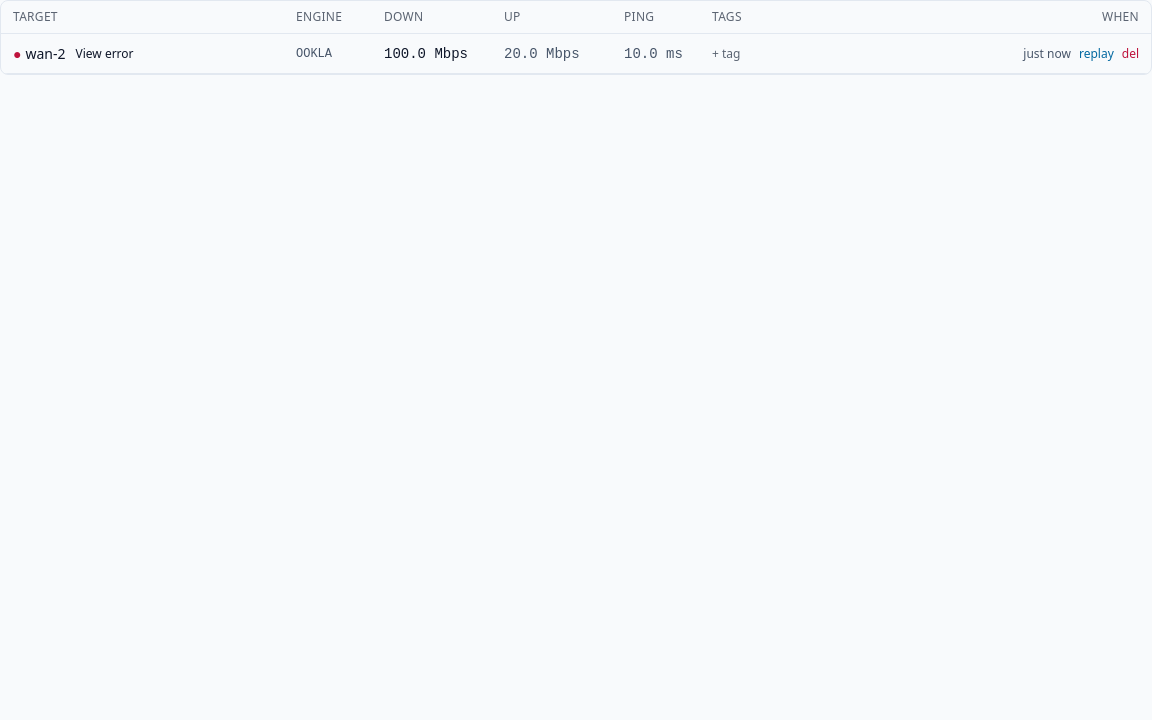
Scenario: ResultsTable errors › shows a View error button for a failed row and opens the error in a dialog
This screenshot has width=1152, height=720.
expect the text "dial tcp: i/o timeout" is not shown: met
Click the button "View error": (104, 54) [70,42,140,66]
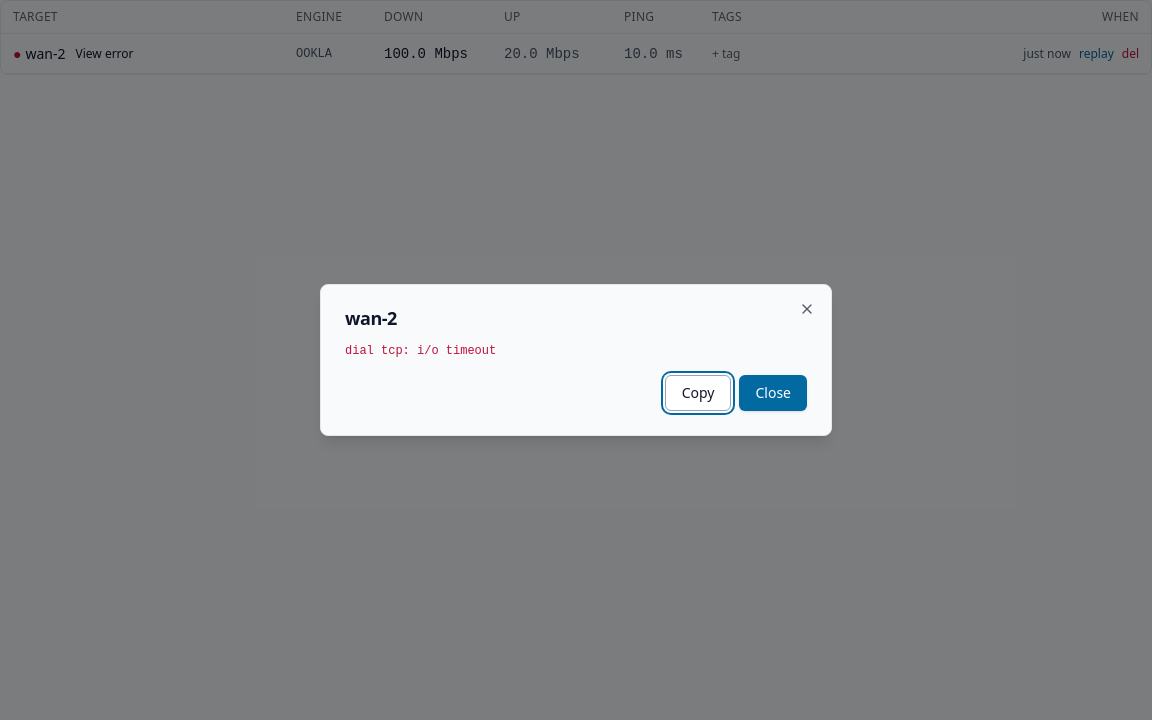
expect the text "dial tcp: i/o timeout" is shown: met, box [345,344,496,358]
